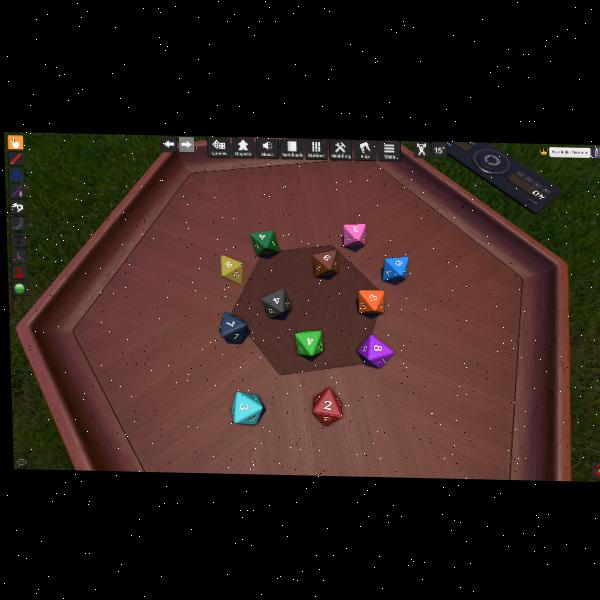d8: (358, 333, 394, 368), (310, 385, 343, 423), (231, 389, 264, 424), (261, 289, 291, 319), (220, 311, 248, 343), (250, 229, 278, 257), (294, 329, 322, 356), (381, 254, 408, 281), (313, 250, 338, 278), (358, 290, 384, 314), (221, 255, 243, 283), (343, 222, 367, 247)
